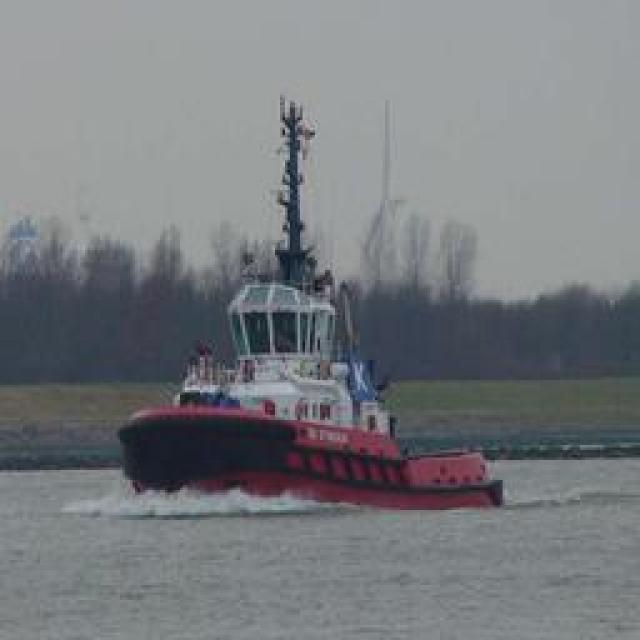Ship: (114, 81, 507, 511)
